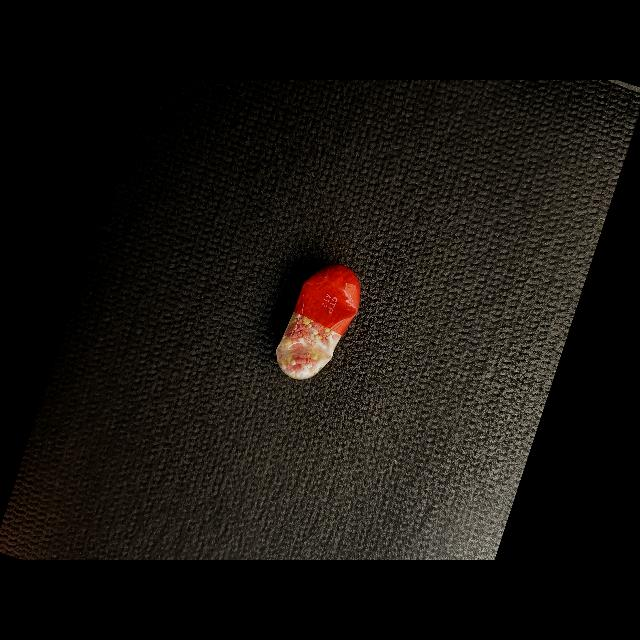Defective Capsule: (276, 264, 361, 380)
